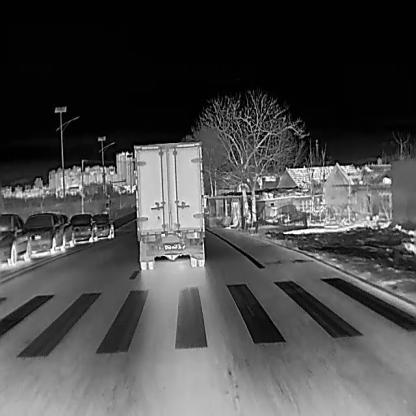car: (22, 212, 66, 254), (0, 210, 31, 265), (67, 212, 96, 241), (91, 212, 114, 238)
truck: (130, 141, 206, 269)
